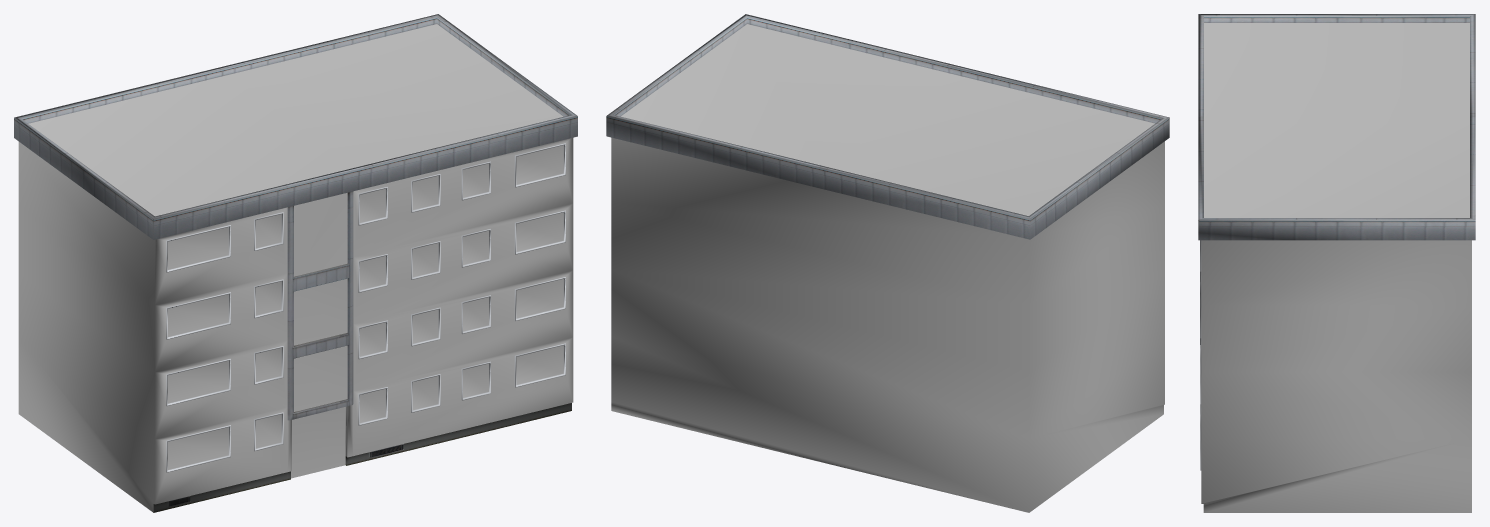
Rendered from mehrfamilienhaus_02_no_backside.fbx.
The picture shows the model from 3 angles, left to right: view 1: azimuth 30°, elevation 25°; view 2: azimuth 150°, elevation 25°; view 3: azimuth 270°, elevation 25°; orthographic projection.
Parts seen in each view (by area): view 1: mehrfamilienhaus_02; view 2: mehrfamilienhaus_02; view 3: mehrfamilienhaus_02.
Part boxes in pixels (left/top/right/bottom): mehrfamilienhaus_02: left=14, top=14, right=577, bottom=512; mehrfamilienhaus_02: left=606, top=14, right=1169, bottom=512; mehrfamilienhaus_02: left=1198, top=14, right=1475, bottom=512.
Bounding box in the file's own units: 1544 × 1029 × 878.
